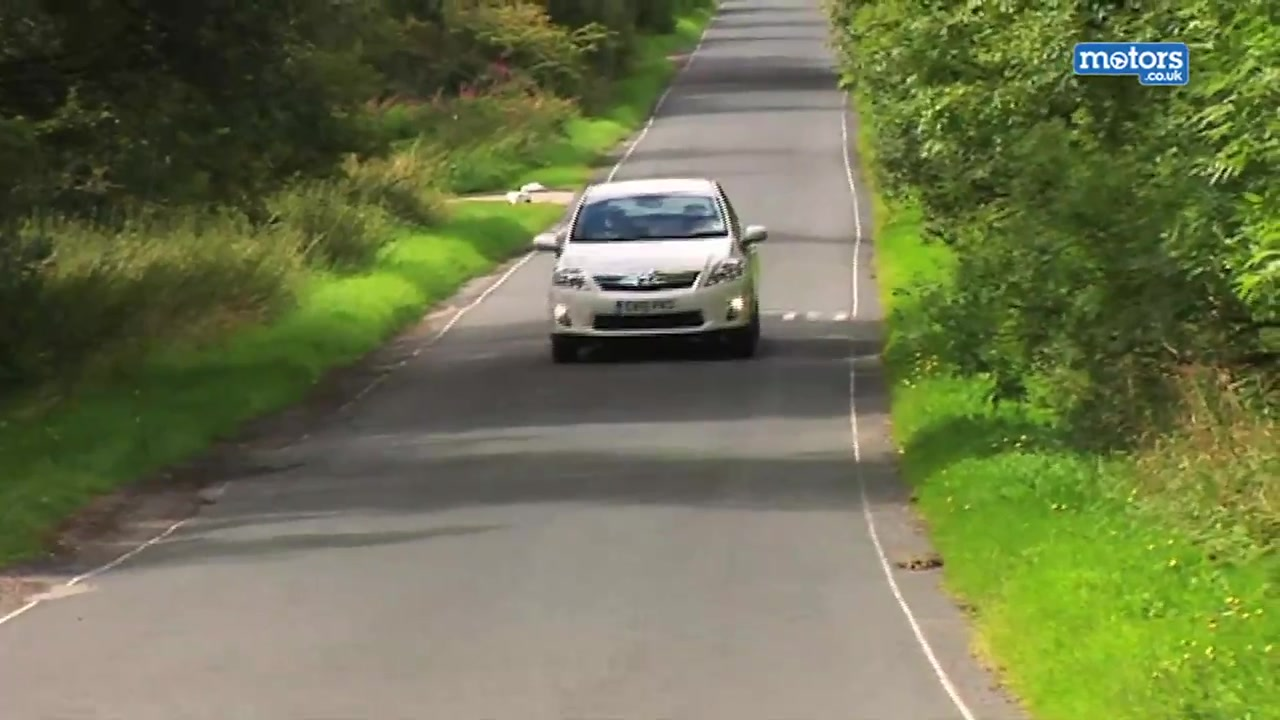car: (533, 175, 770, 362)
